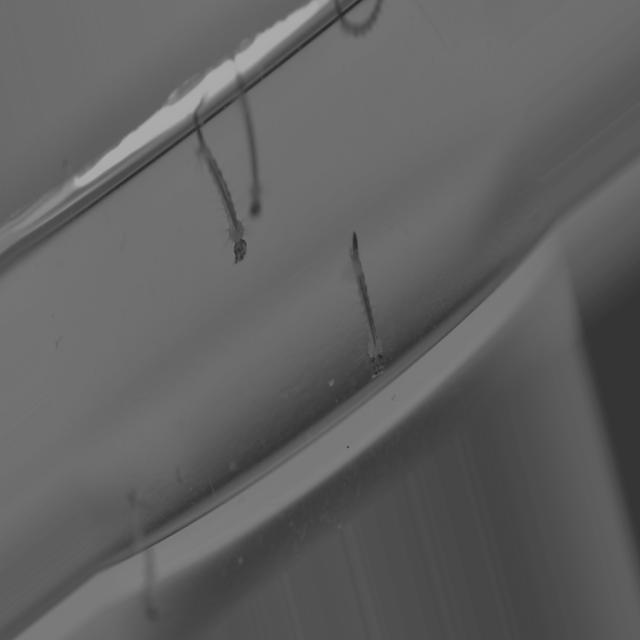larvas: (192, 103, 246, 262), (347, 228, 387, 380), (238, 73, 265, 214), (332, 0, 383, 34), (143, 549, 158, 620), (132, 486, 146, 556)
